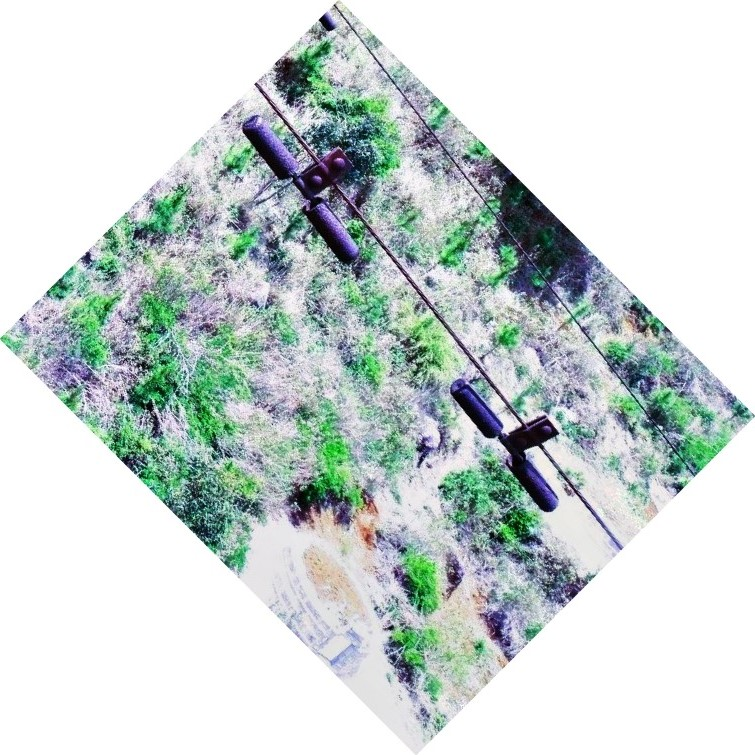Shockproof hammer: (237, 96, 371, 275), (445, 358, 570, 520)
